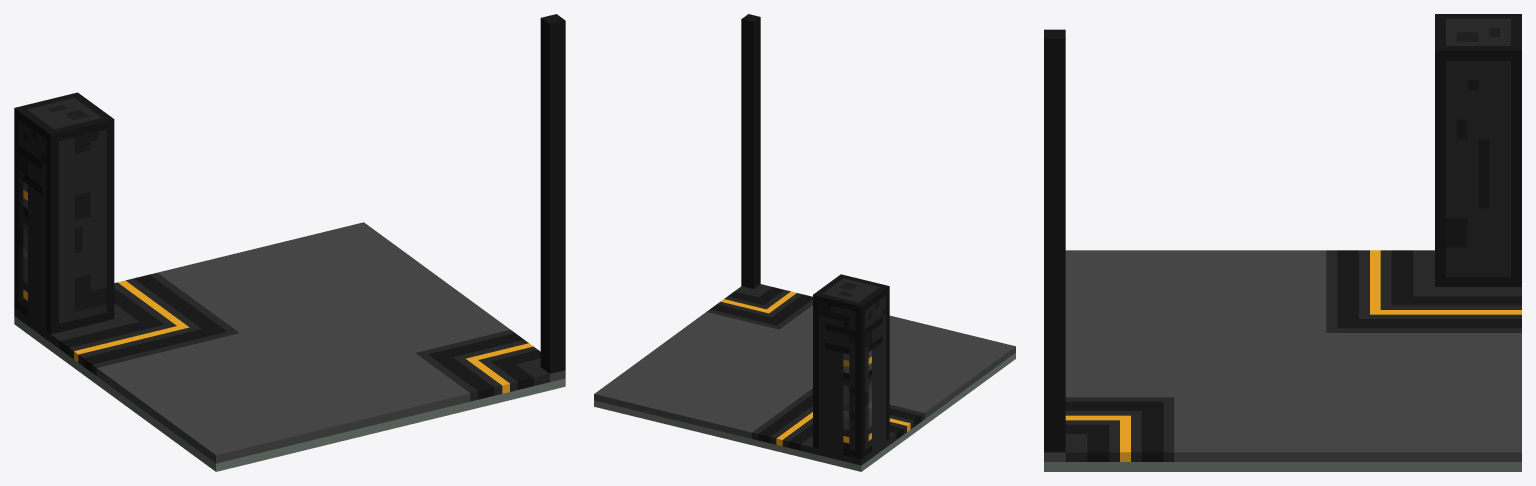
The model's file is mesh_hanger_railing_outer_corner.obj.
3 renders of one model, left to right at view 1: azimuth 30°, elevation 25°; view 2: azimuth 150°, elevation 25°; view 3: azimuth 270°, elevation 25°, orthographic. The views are drawn at different scales.
Bounding box in the file's own units: 4.4 × 4.4 × 4.4.
1 material, 1 textured.
